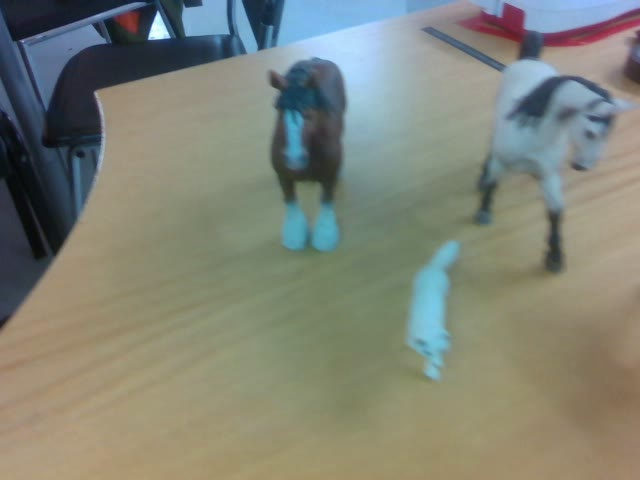toy: (476, 29, 629, 273), (265, 56, 344, 249), (404, 241, 459, 379)
